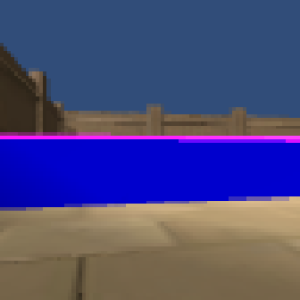platform: (1, 142, 300, 212)
ramp: (1, 132, 300, 141)
